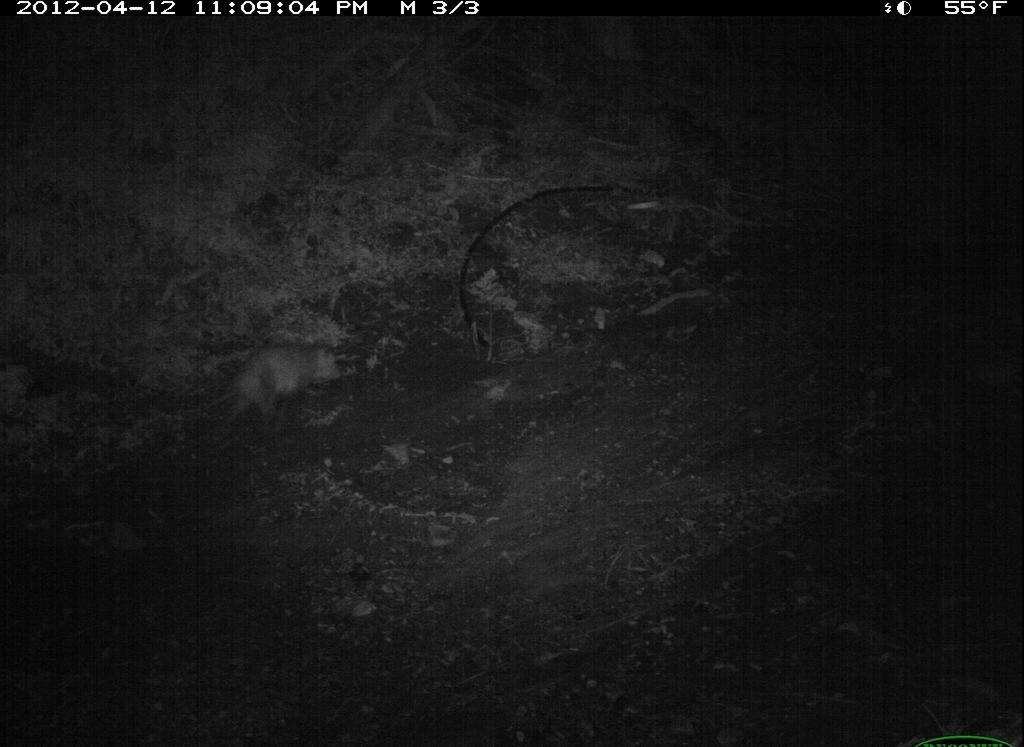opossum: (198, 336, 345, 451)
